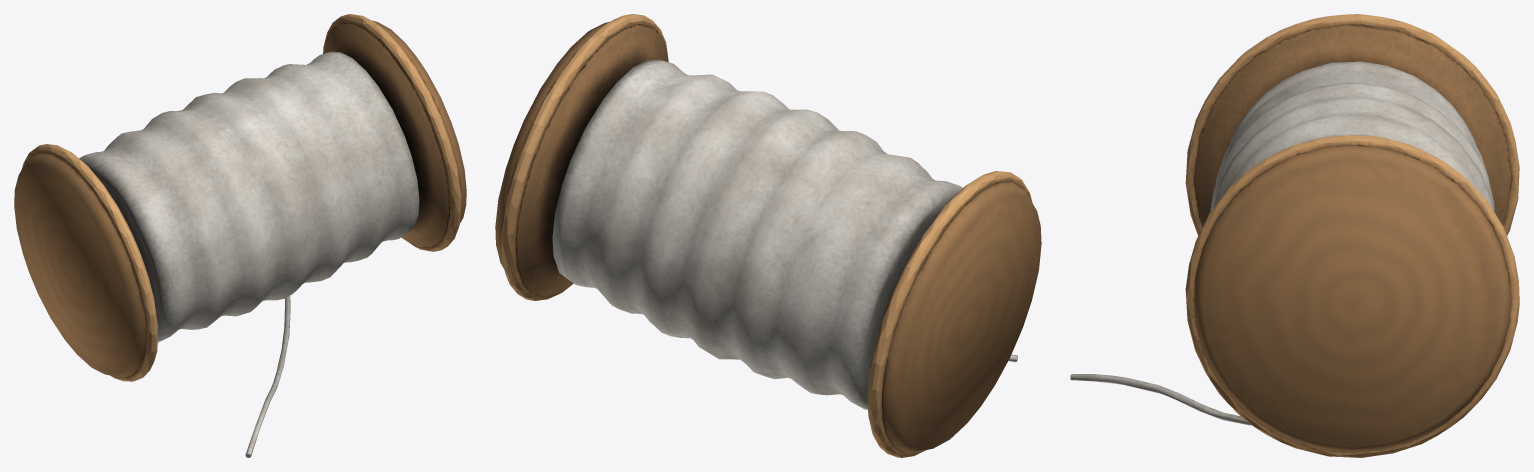
Rendered from item_seda_v2.glb.
3 views of the same model, side by side, from view 1: azimuth 30°, elevation 25°; view 2: azimuth 150°, elevation 25°; view 3: azimuth 270°, elevation 25° (orthographic). The views are drawn at different scales.
Parts seen in each view (by area): view 1: item_seda; view 2: item_seda; view 3: item_seda.
Part boxes in pixels (bbox=[...]): item_seda: bbox=[14, 14, 466, 457]; item_seda: bbox=[495, 14, 1041, 457]; item_seda: bbox=[1070, 14, 1519, 457].
Bounding box in the file's own units: 0.2387 × 0.1858 × 0.1925.
1 material, 1 textured.
